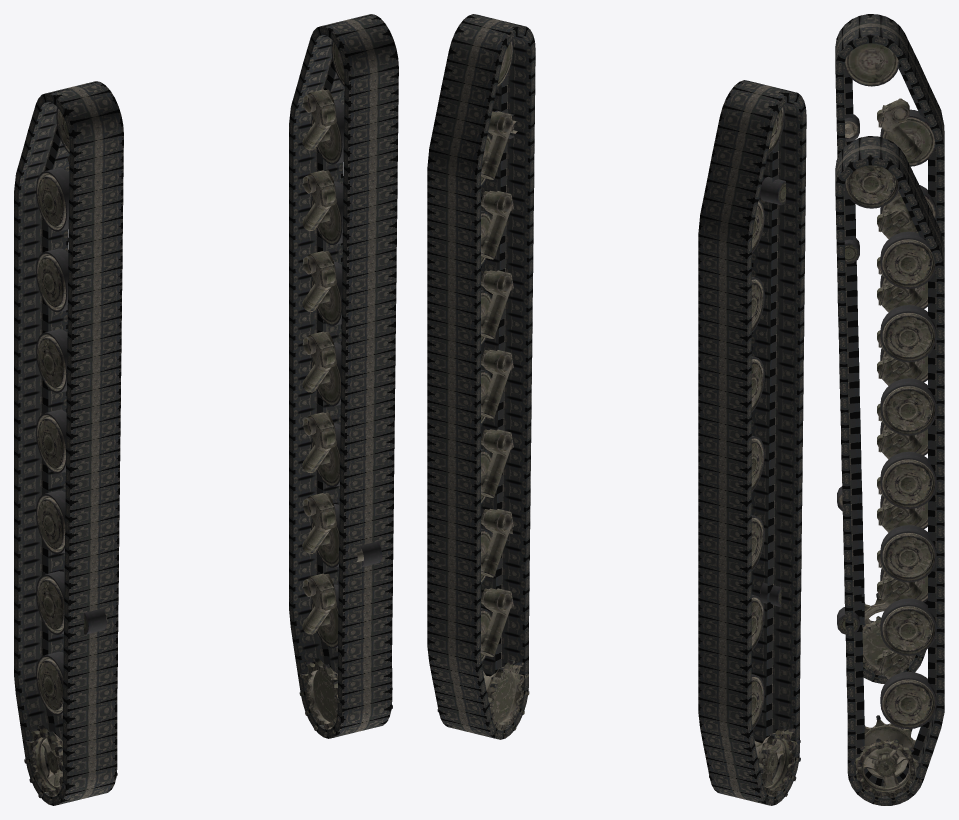
File: Chassis.glb
3 views of the same model, side by side, from view 1: azimuth 30°, elevation 25°; view 2: azimuth 150°, elevation 25°; view 3: azimuth 270°, elevation 25° (orthographic). The views are drawn at different scales.
Visible parts, largest first — view 1: set_1_group_0, set_3_group_0, set_5_group_0, set_4_group_0, set_0_group_0, set_2_group_0; view 2: set_1_group_0, set_3_group_0, set_5_group_0, set_4_group_0, set_0_group_0, set_2_group_0; view 3: set_5_group_0, set_3_group_0, set_4_group_0, set_1_group_0, set_2_group_0.
Part boxes in pixels (bbox=[...]): set_1_group_0: bbox=[14, 81, 123, 805]; set_3_group_0: bbox=[289, 14, 398, 738]; set_5_group_0: bbox=[299, 41, 392, 737]; set_4_group_0: bbox=[24, 107, 117, 804]; set_0_group_0: bbox=[62, 716, 117, 788]; set_2_group_0: bbox=[337, 649, 392, 721]; set_1_group_0: bbox=[698, 80, 806, 805]; set_3_group_0: bbox=[427, 14, 535, 739]; set_5_group_0: bbox=[437, 40, 529, 737]; set_4_group_0: bbox=[709, 106, 800, 804]; set_0_group_0: bbox=[752, 694, 799, 760]; set_2_group_0: bbox=[482, 630, 528, 693]; set_5_group_0: bbox=[837, 165, 936, 804]; set_3_group_0: bbox=[835, 136, 944, 805]; set_4_group_0: bbox=[837, 43, 936, 682]; set_1_group_0: bbox=[835, 14, 944, 683]; set_2_group_0: bbox=[847, 713, 864, 779].
Size of the model in its own units: 3.37 by 6.97 by 1.07.
Materials: 6 (6 with a texture image).
